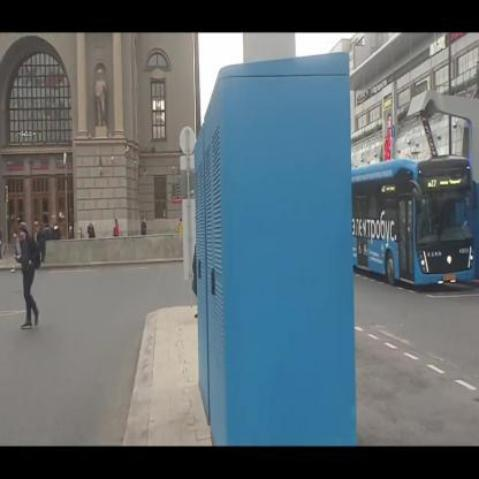bus: (351, 157, 476, 287)
